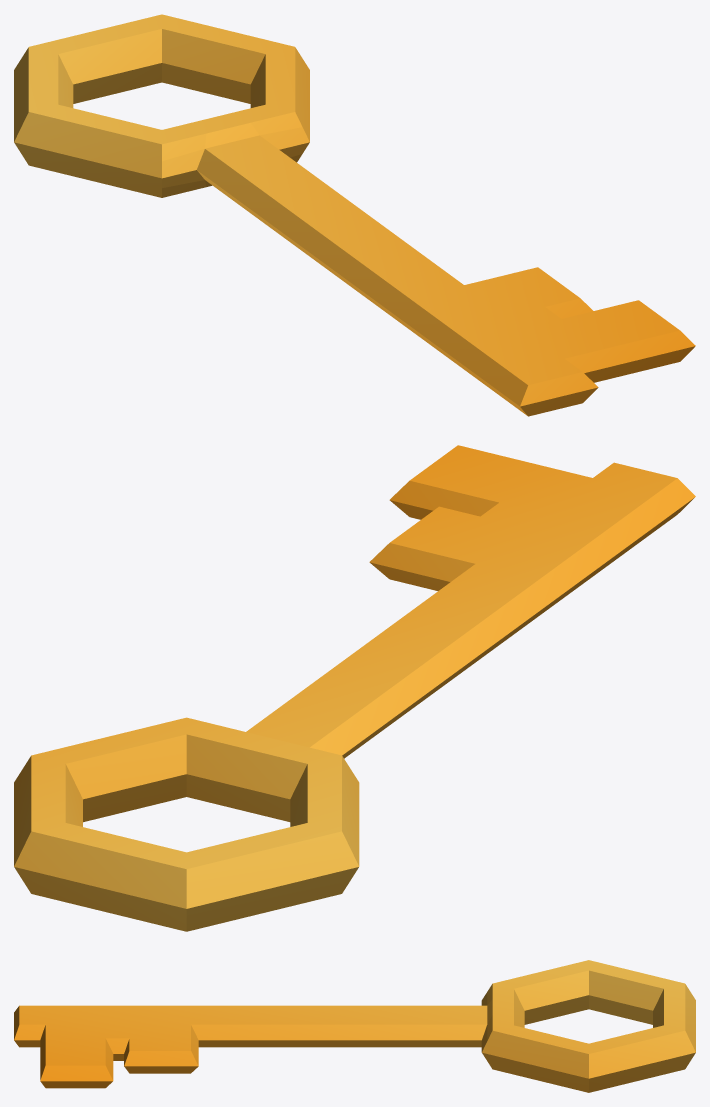
The model's file is obj_key_normal_01.glb.
The picture shows the model from 3 angles, top to bottom: view 1: azimuth 30°, elevation 25°; view 2: azimuth 150°, elevation 25°; view 3: azimuth 270°, elevation 25°; orthographic projection. The views are drawn at different scales.
Parts seen in each view (by area): view 1: Key; view 2: Key; view 3: Key.
Boxes of the visible parts, x1,y1,x2,y2 form: Key: (14,14,695,416); Key: (14,445,695,931); Key: (14,960,695,1092).
Size of the model in its own units: 2.56 by 0.433 by 6.89.
1 material, 1 textured.
